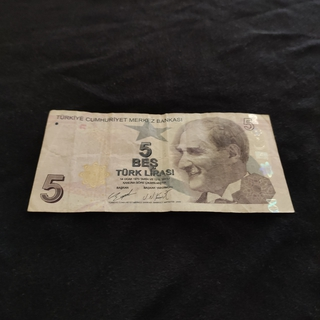5TLFront: (25, 109, 296, 214)
